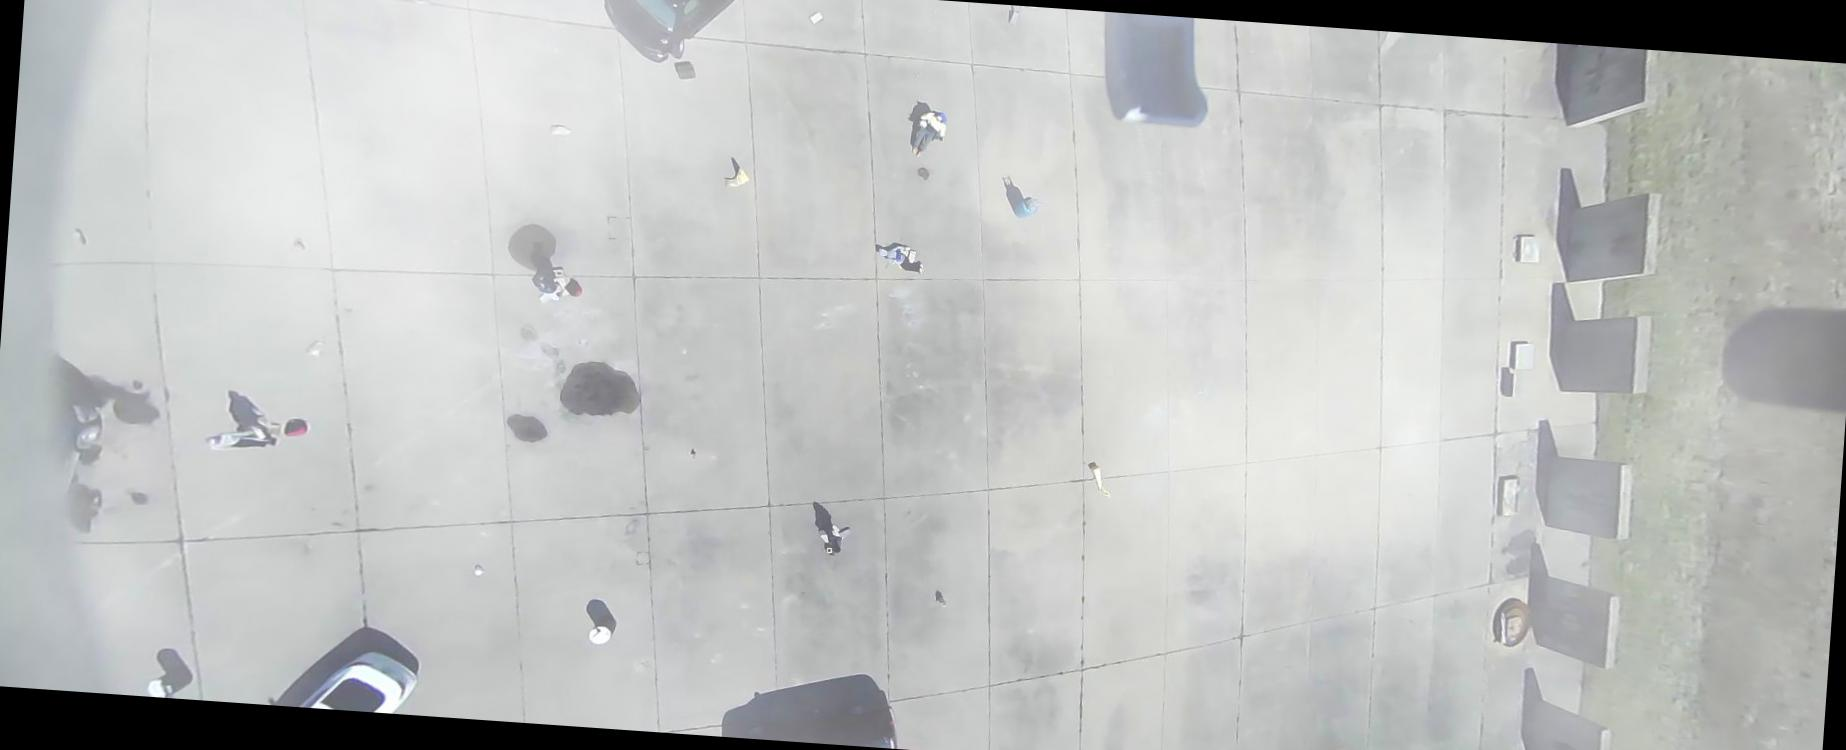vehicle: (599, 0, 758, 69), (38, 374, 105, 503), (741, 693, 898, 748), (299, 646, 419, 715)
